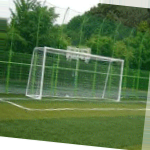goals: (25, 46, 126, 106)
